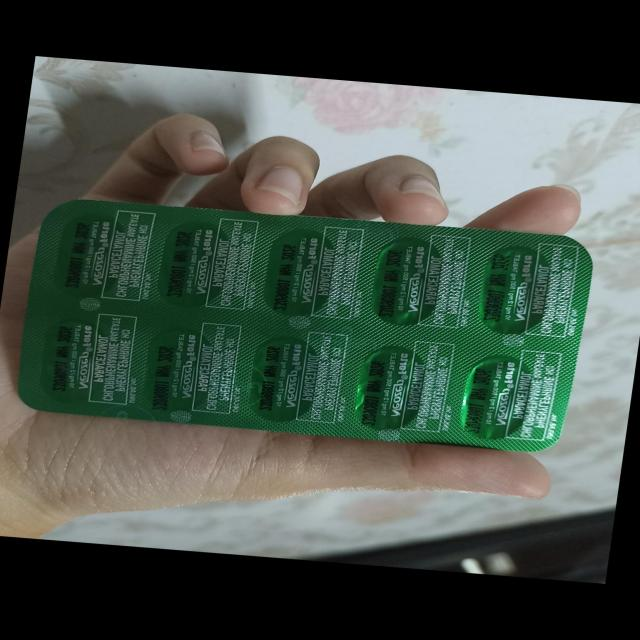Neozep_Strip: (11, 184, 603, 459)
